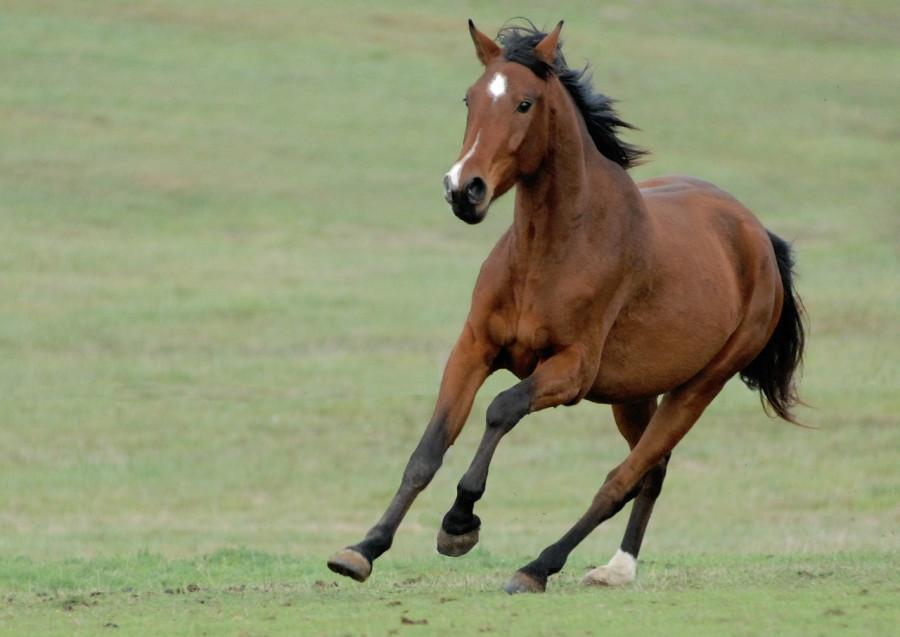horse: (316, 4, 823, 602)
